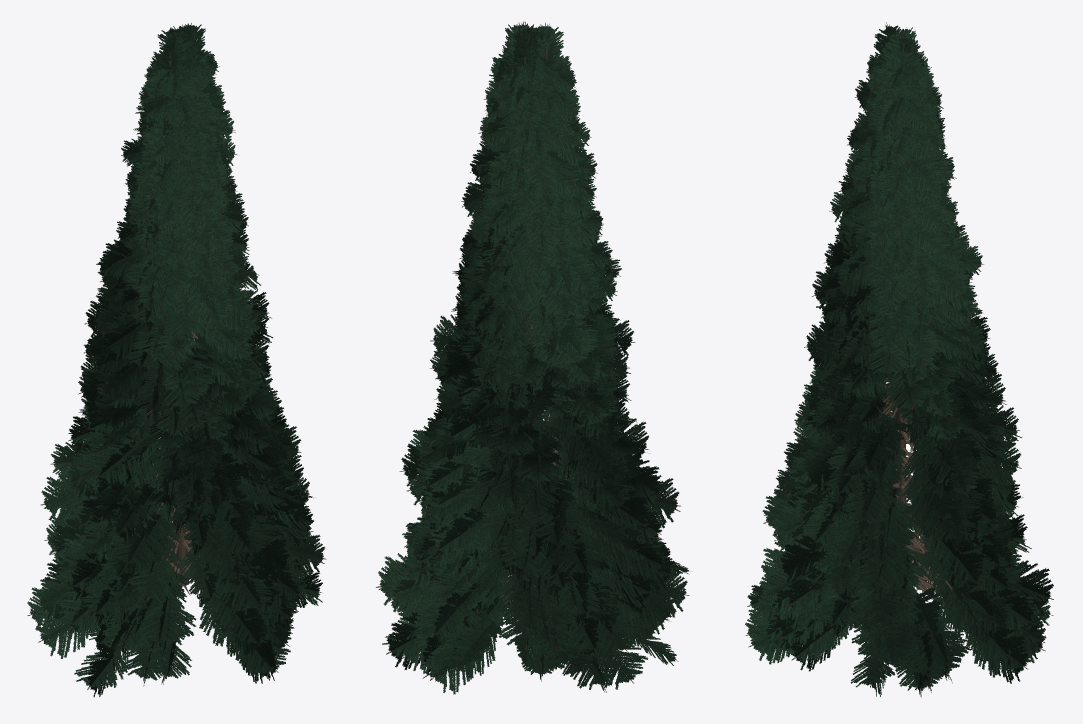
The model's file is tree_spruce.glb.
The picture shows the model from 3 angles, left to right: view 1: azimuth 30°, elevation 25°; view 2: azimuth 150°, elevation 25°; view 3: azimuth 270°, elevation 25°; orthographic projection.
Visible parts, largest first — view 1: V3_LOD0, V7_LOD0, V0_LOD0, V5_LOD0, V1_LOD0, V2_LOD0, V4_LOD0, V6_LOD0; view 2: V7_LOD0, V0_LOD0, V5_LOD0, V6_LOD0, V4_LOD0, V2_LOD0, V3_LOD0, V1_LOD0; view 3: V7_LOD0, V4_LOD0, V6_LOD0, V1_LOD0, V2_LOD0, V3_LOD0, V5_LOD0, V0_LOD0.
Boxes of the visible parts, <box> form: V3_LOD0: <box>35,33,301,658</box>; V7_LOD0: <box>52,24,313,680</box>; V0_LOD0: <box>42,27,326,683</box>; V5_LOD0: <box>58,26,314,656</box>; V1_LOD0: <box>27,32,292,672</box>; V2_LOD0: <box>54,25,308,697</box>; V4_LOD0: <box>44,24,310,686</box>; V6_LOD0: <box>48,23,322,684</box>; V7_LOD0: <box>385,25,662,681</box>; V0_LOD0: <box>382,27,680,676</box>; V5_LOD0: <box>397,26,689,672</box>; V6_LOD0: <box>396,21,674,681</box>; V4_LOD0: <box>376,22,674,661</box>; V2_LOD0: <box>406,23,678,694</box>; V3_LOD0: <box>411,24,667,689</box>; V1_LOD0: <box>385,22,675,692</box>; V7_LOD0: <box>747,30,1023,691</box>; V4_LOD0: <box>761,31,1037,680</box>; V6_LOD0: <box>745,34,1053,696</box>; V1_LOD0: <box>773,26,1031,683</box>; V2_LOD0: <box>759,32,1046,697</box>; V3_LOD0: <box>747,22,1045,692</box>; V5_LOD0: <box>762,29,1053,683</box>; V0_LOD0: <box>760,27,1032,683</box>.
Size of what is drawn, in the model's own units: 12.07 by 26.5 by 12.37.
Materials: 2 (2 with a texture image).
